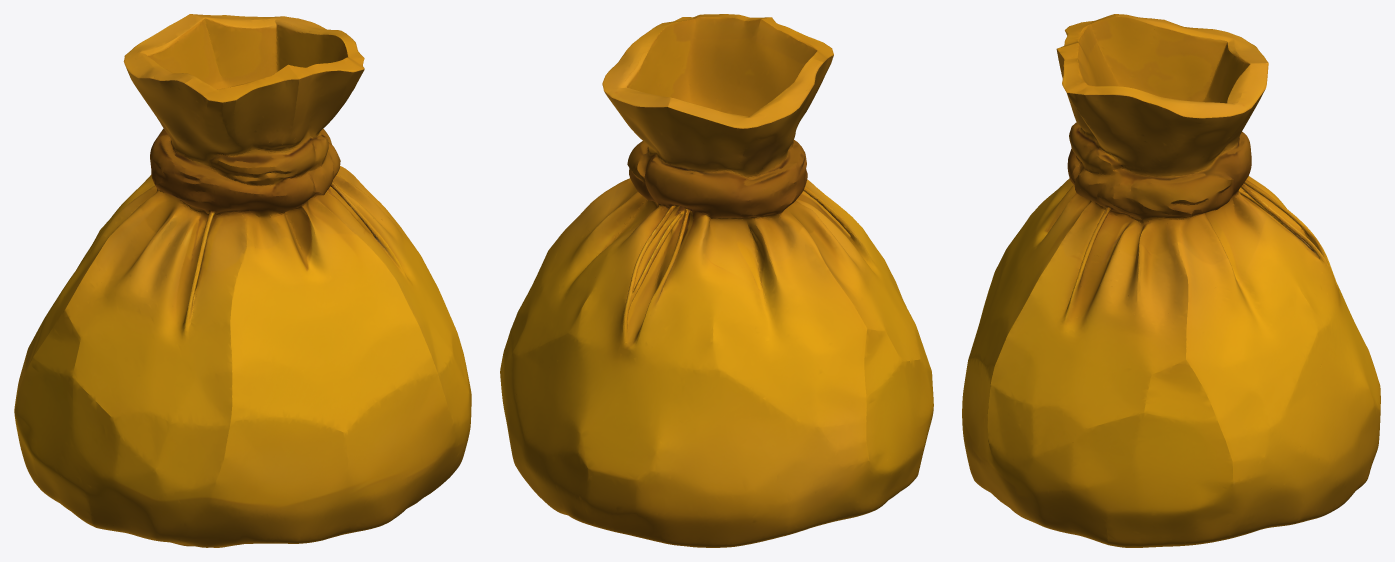
Rendered from base_basic_pbr.fbx.
3 views of the same model, side by side, from view 1: azimuth 30°, elevation 25°; view 2: azimuth 150°, elevation 25°; view 3: azimuth 270°, elevation 25° (orthographic). The views are drawn at different scales.
Visible parts, largest first — view 1: model; view 2: model; view 3: model.
Part boxes in pixels (bbox=[...]): model: bbox=[14, 14, 471, 547]; model: bbox=[500, 14, 933, 547]; model: bbox=[962, 14, 1380, 547].
Bounding box in the file's own units: 162 × 190 × 154.
Materials: 1 (1 with a texture image).
